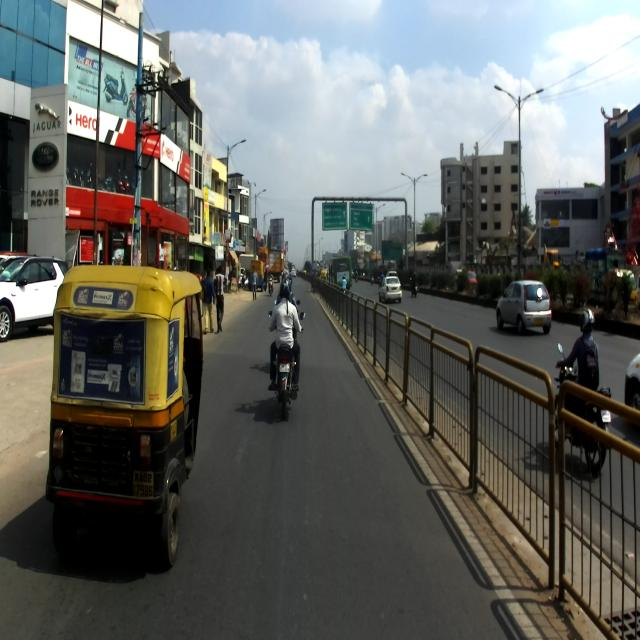auto ahead at: (51, 269, 202, 556)
motorcycle ahead at: (265, 279, 307, 422)
person ahead at: (210, 269, 234, 332)
